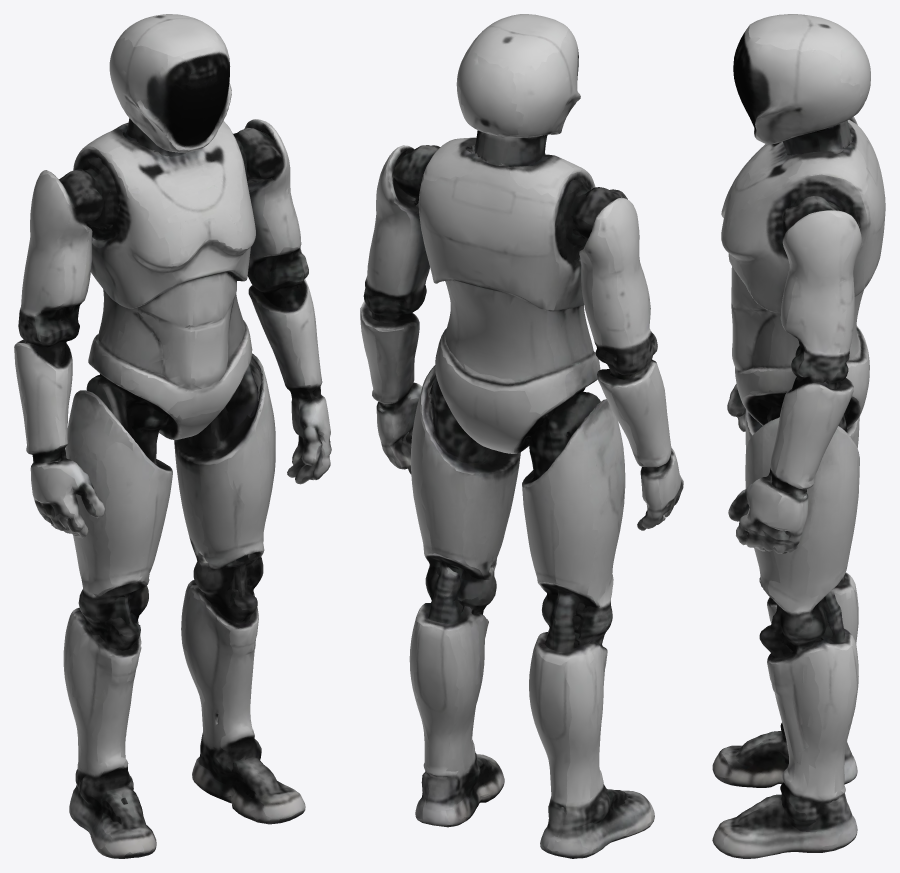
The model's file is robot.glb.
3 views of the same model, side by side, from view 1: azimuth 30°, elevation 25°; view 2: azimuth 150°, elevation 25°; view 3: azimuth 270°, elevation 25° (orthographic).
Visible parts, largest first — view 1: world; view 2: world; view 3: world.
Boxes of the visible parts, left/top/right/bottom form: world: left=14, top=14, right=331, bottom=858; world: left=360, top=14, right=683, bottom=858; world: left=712, top=14, right=885, bottom=858.
Size of the model in its own units: 0.6745 by 1.75 by 0.3486.
Materials: 1 (1 with a texture image).
